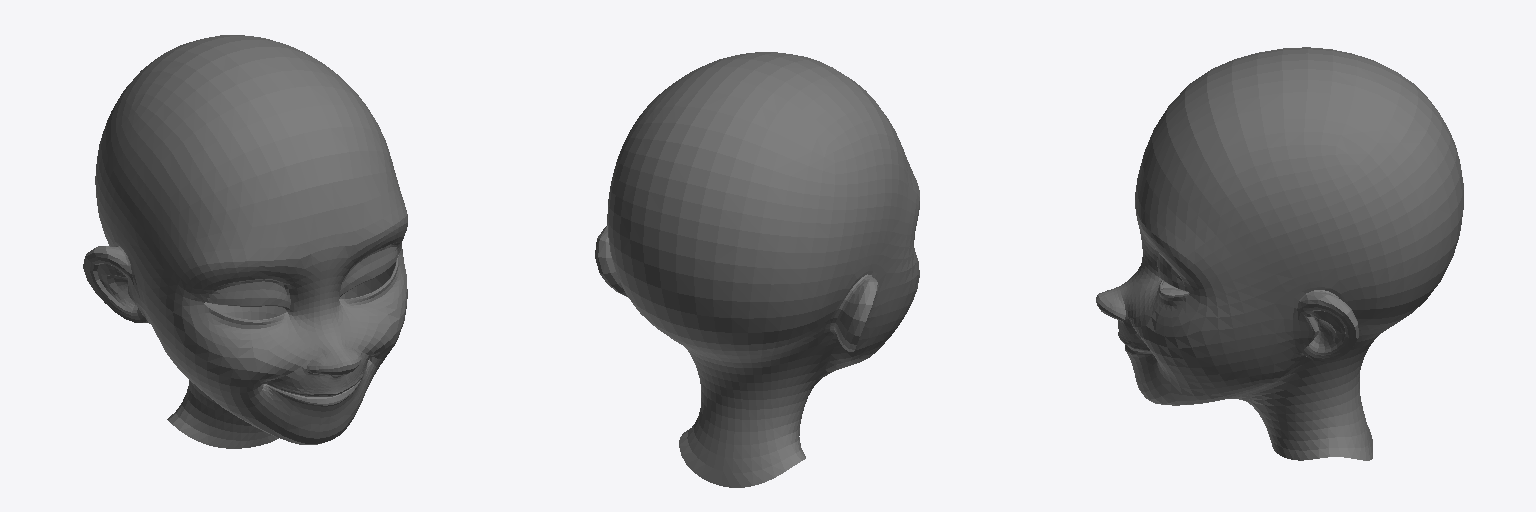
Rendered from pos7.obj.
The picture shows the model from 3 angles: view 1: azimuth 30°, elevation 25°; view 2: azimuth 150°, elevation 25°; view 3: azimuth 270°, elevation 25°; orthographic projection.
Parts seen in each view (by area): view 1: pos7_Mesh; view 2: pos7_Mesh; view 3: pos7_Mesh.
Boxes of the visible parts, box(x1,y1,x2,y2) form: pos7_Mesh: box(83, 35, 407, 448); pos7_Mesh: box(595, 52, 919, 487); pos7_Mesh: box(1096, 47, 1463, 460).
Size of the model in its own units: 23.75 by 32.31 by 27.53.